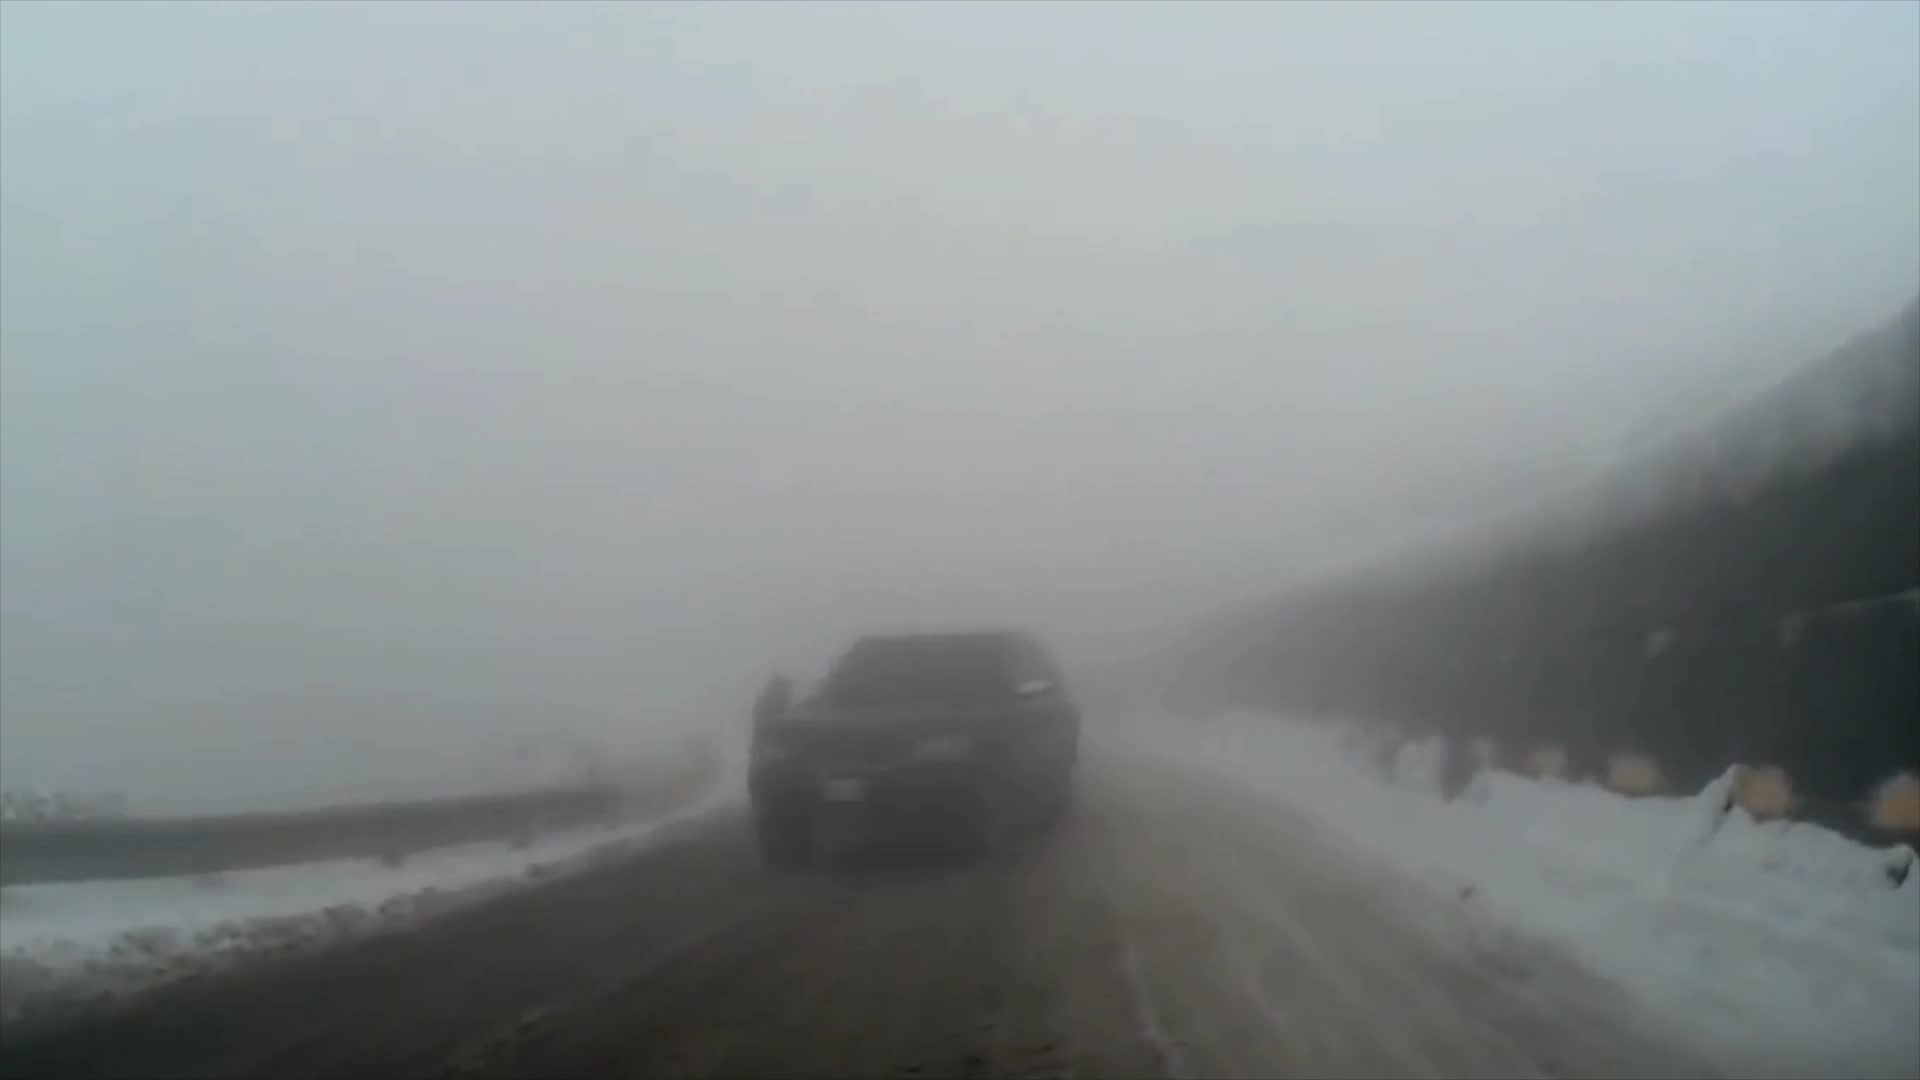pedestrian: (741, 662, 807, 812)
vehicle: (745, 628, 1081, 873)
